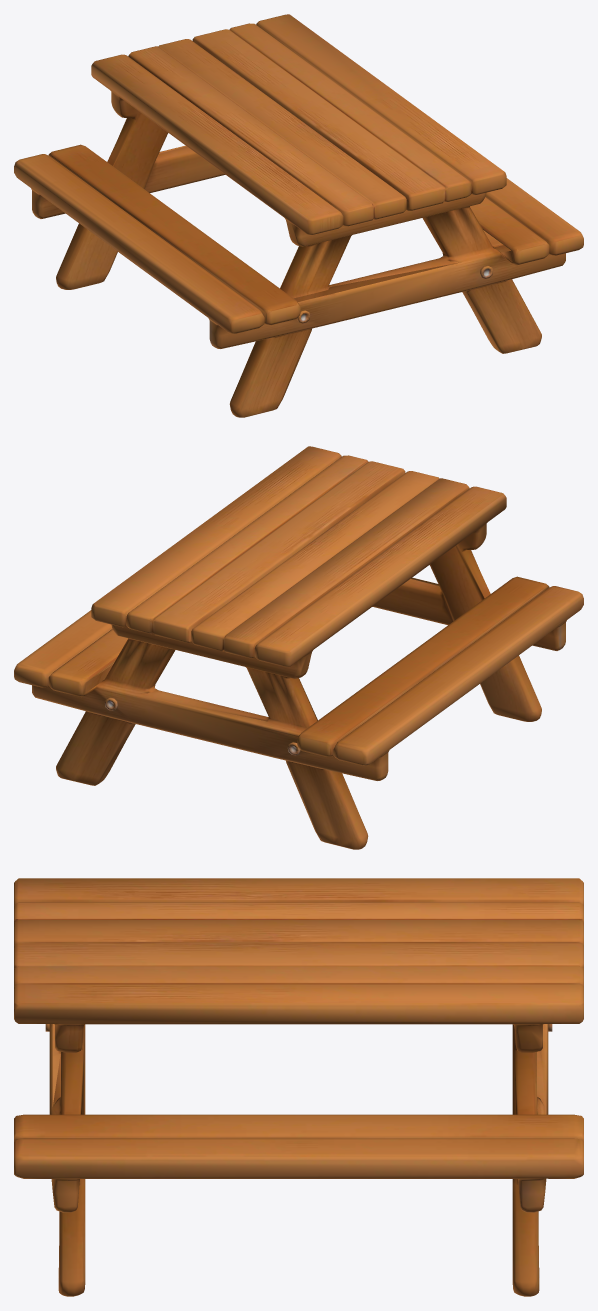
Rendered from Outdoor__a_wooden_picnic_table_ce1238fe_v4.cluster.glb.
3 views of the same model, one above another, from view 1: azimuth 30°, elevation 25°; view 2: azimuth 150°, elevation 25°; view 3: azimuth 270°, elevation 25° (orthographic). The views are drawn at different scales.
Parts seen in each view (by area): view 1: material; view 2: material; view 3: material.
Part boxes in pixels (box(x1,y1,x2,y2)): material: box(14, 14, 583, 417); material: box(14, 446, 583, 849); material: box(14, 878, 583, 1296).
Bounding box in the file's own units: 1.78 × 0.9549 × 1.9.
Materials: 1 (1 with a texture image).
